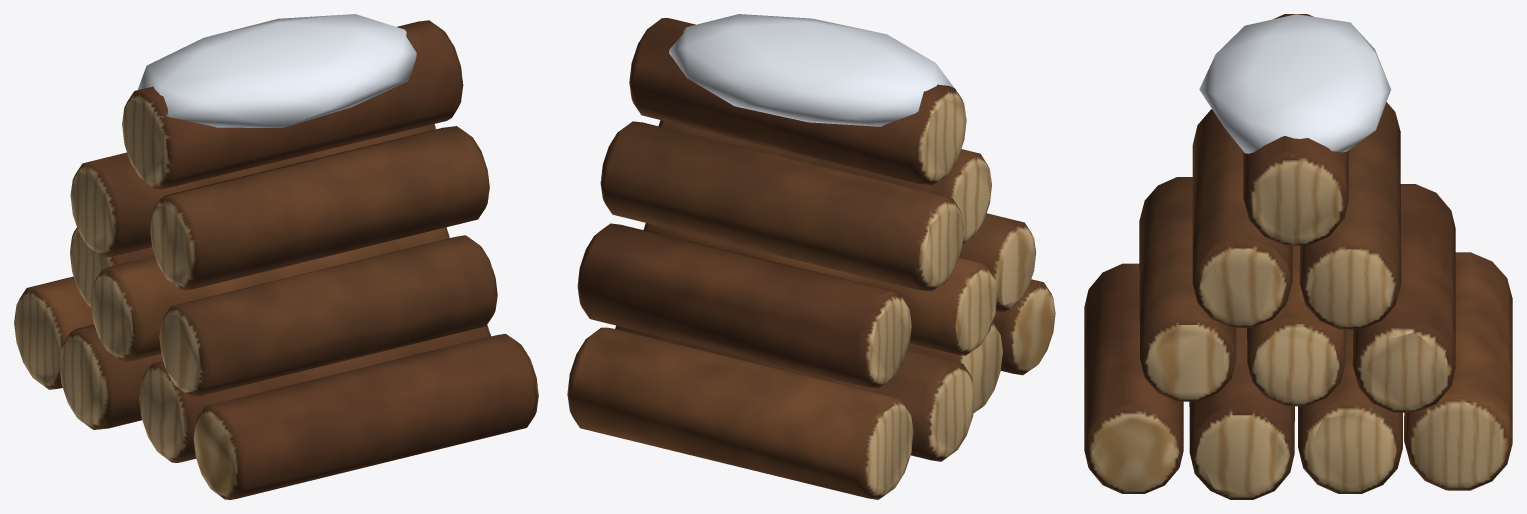
File: firewood_pile.glb
3 renders of one model, left to right at view 1: azimuth 30°, elevation 25°; view 2: azimuth 150°, elevation 25°; view 3: azimuth 270°, elevation 25°, orthographic.
Visible parts, largest first — view 1: pile_l; view 2: pile_l; view 3: pile_l.
Boxes of the visible parts, <box> form: pile_l: <box>14,14,538,499</box>; pile_l: <box>567,14,1055,499</box>; pile_l: <box>1084,14,1512,499</box>.
Size of the model in its own units: 1.03 by 1.06 by 1.13.
1 material, 1 textured.
